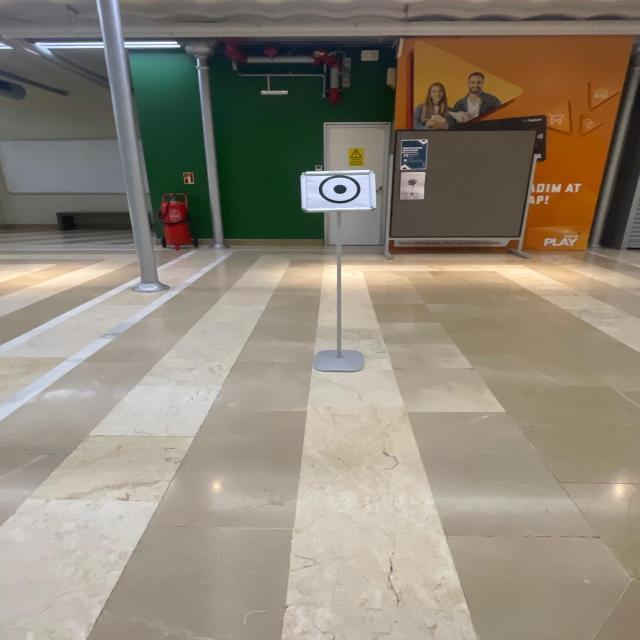Target: (285, 157, 395, 223)
inner: (328, 181, 353, 201)
